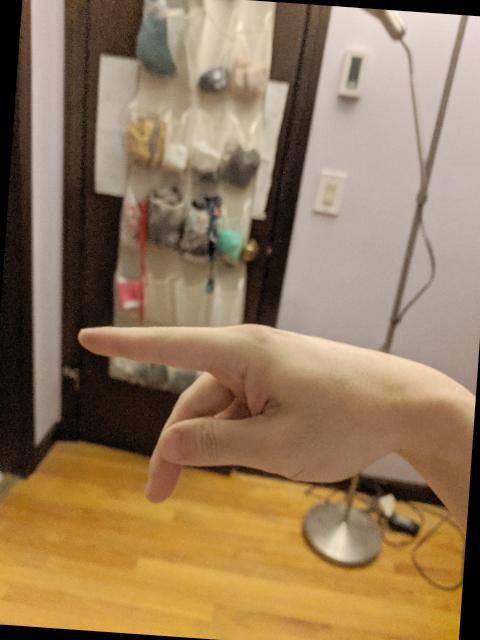P: (60, 301, 409, 527)
